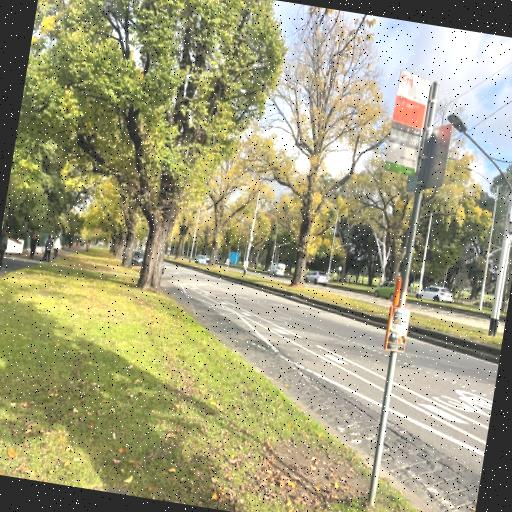signage: (370, 76, 435, 512)
